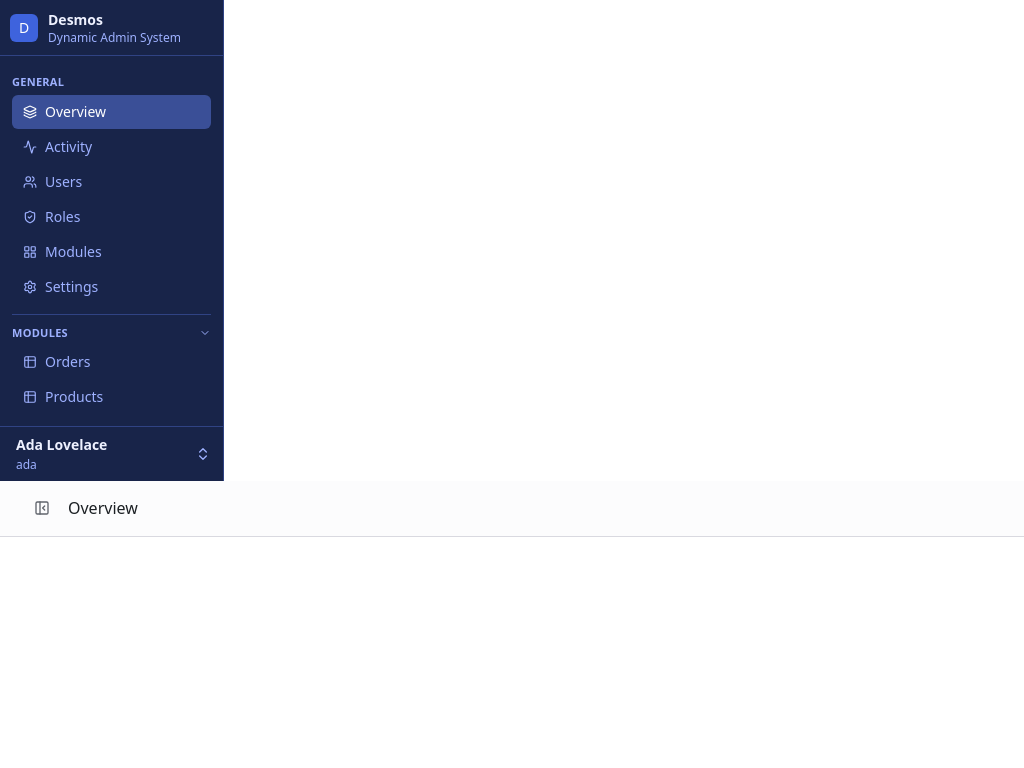
Test: Sidebar › collapses when the toggle is clicked, and expands again on a second click
Click the button named "Collapse sidebar".
click(42, 508)  # box [24, 490, 60, 526]
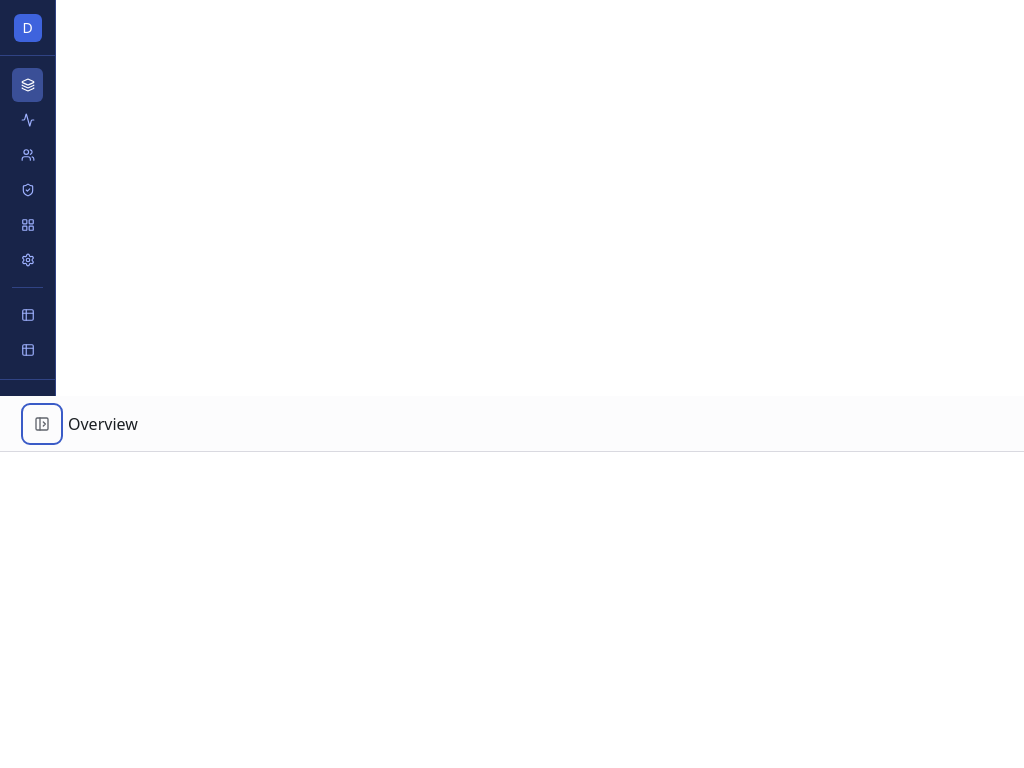
Result: the button named "Expand sidebar" is collapsed
Click the button named "Expand sidebar".
click(42, 424)  # box [24, 406, 60, 442]
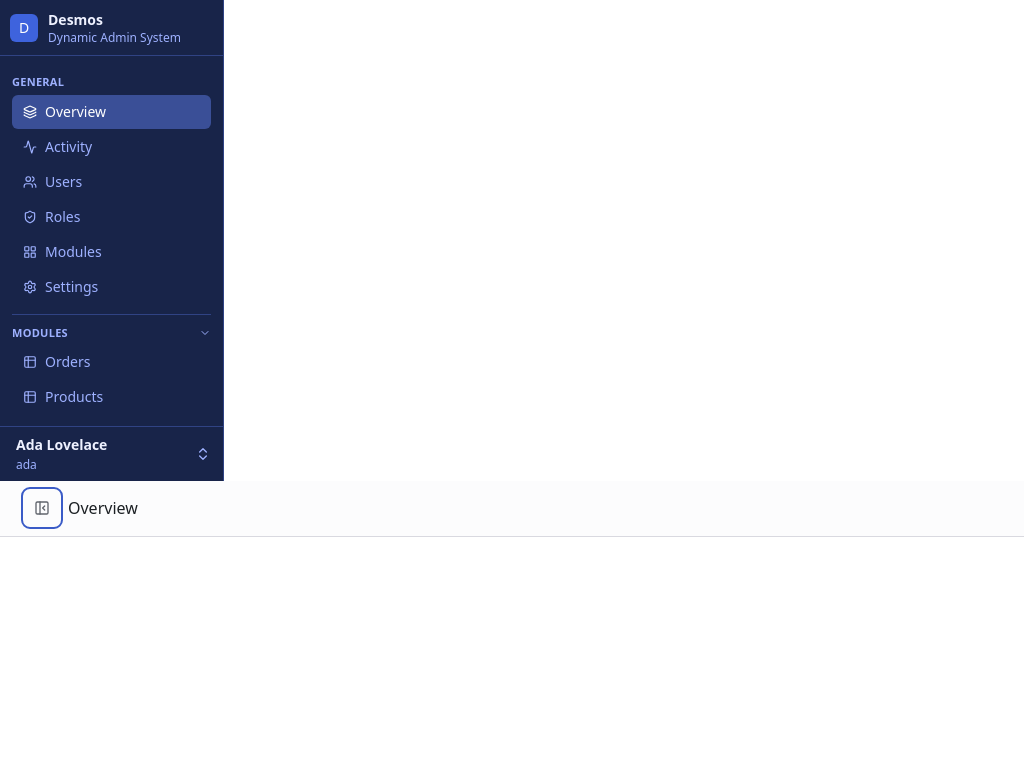
Result: the button named "Collapse sidebar" is expanded at [24, 490, 60, 526]
